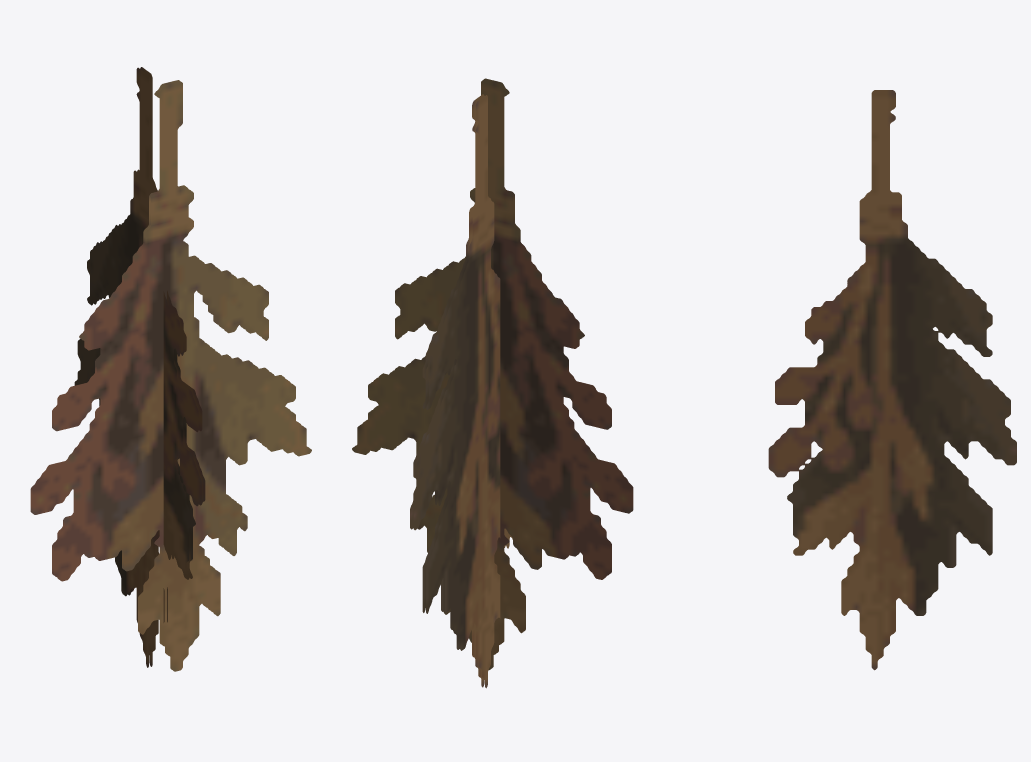
The model's file is SM_HerbBundleA.fbx.
3 views of the same model, side by side, from view 1: azimuth 30°, elevation 25°; view 2: azimuth 150°, elevation 25°; view 3: azimuth 270°, elevation 25° (orthographic). The views are drawn at different scales.
Parts seen in each view (by area): view 1: HerbBundleA_Visual; view 2: HerbBundleA_Visual; view 3: HerbBundleA_Visual.
Boxes of the visible parts, bbox=[...] form: HerbBundleA_Visual: bbox=[30, 67, 311, 671]; HerbBundleA_Visual: bbox=[352, 78, 633, 688]; HerbBundleA_Visual: bbox=[768, 90, 1016, 670].
Bounding box in the file's own units: 0.13 × 0.25 × 0.13.
